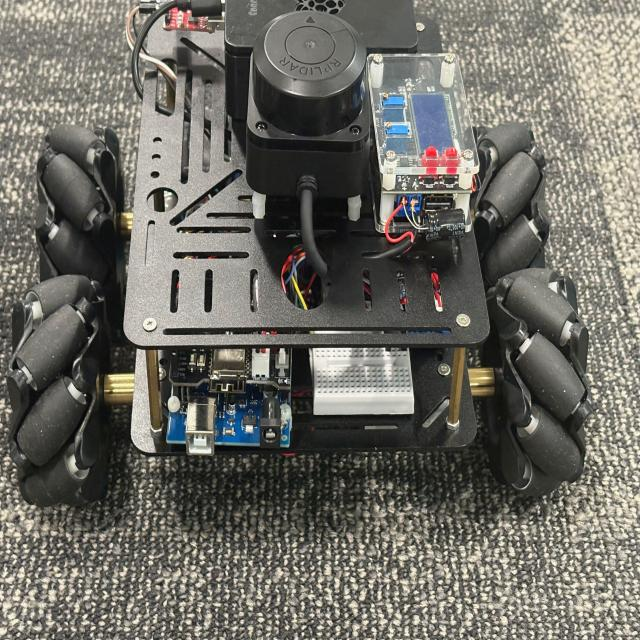ArduinoCar3: (15, 0, 588, 511)
